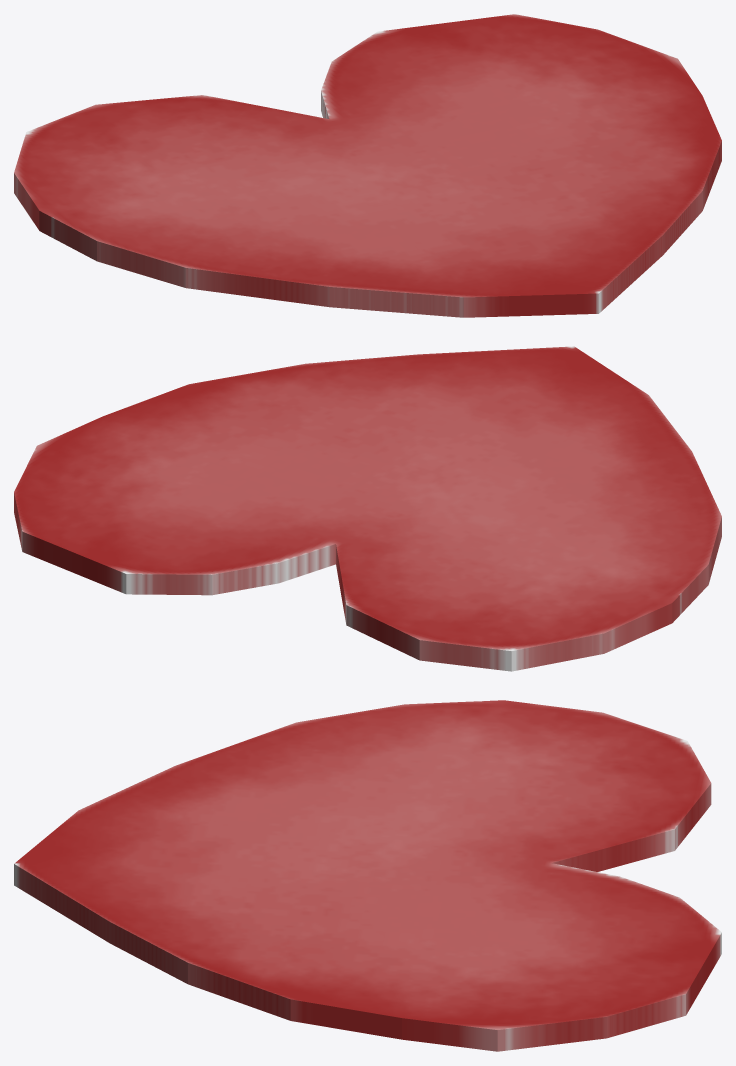
Rendered from Heart.fbx.
The picture shows the model from 3 angles, top to bottom: view 1: azimuth 30°, elevation 25°; view 2: azimuth 150°, elevation 25°; view 3: azimuth 270°, elevation 25°; orthographic projection. The views are drawn at different scales.
Visible parts, largest first — view 1: heart; view 2: heart; view 3: heart.
Boxes of the visible parts, x1,y1,x2,y2 form: heart: [14, 14, 721, 317]; heart: [14, 346, 721, 671]; heart: [14, 700, 721, 1051].
Size of the model in its own units: 108 by 4.9 by 98.66.
Materials: 1 (1 with a texture image).
